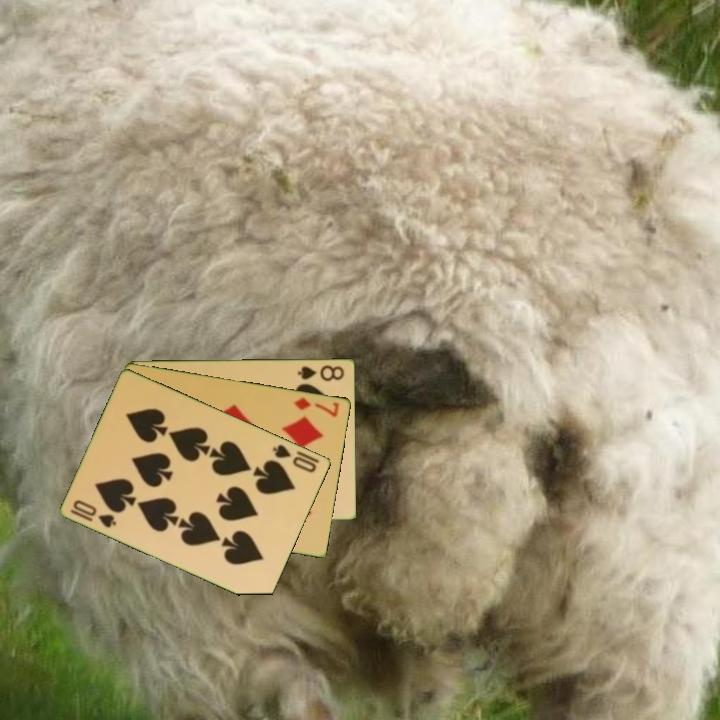10s: (67, 496, 120, 531), (269, 441, 320, 475)
7d: (291, 394, 342, 420)
8s: (295, 361, 347, 384)
